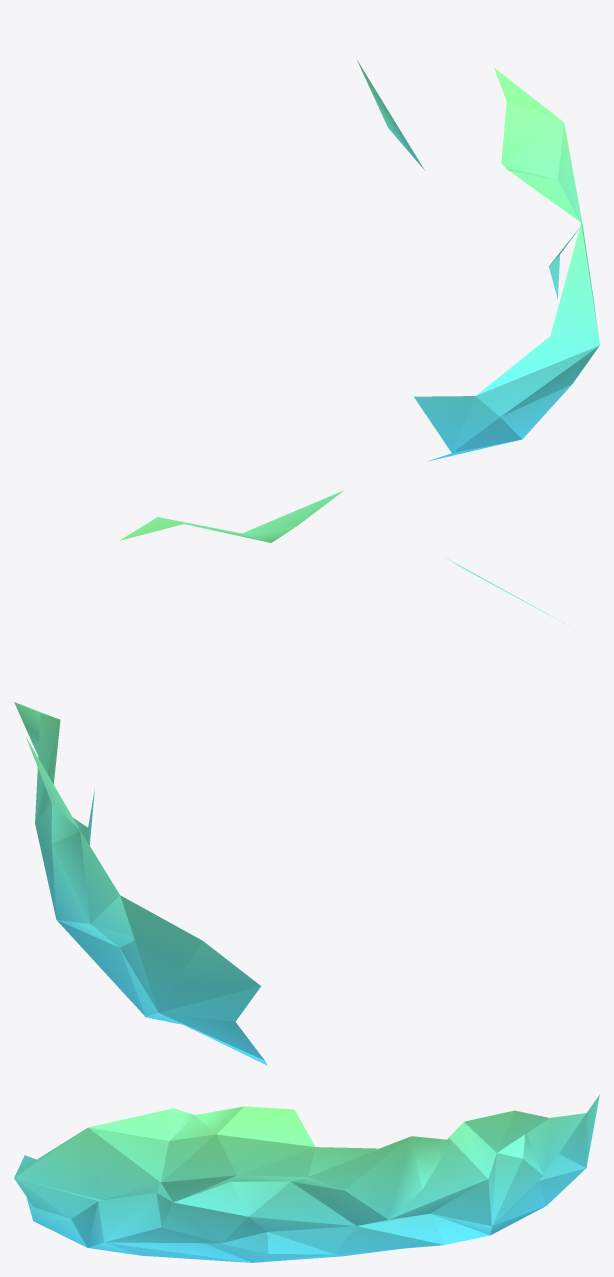
File: Brain B.gltf
The picture shows the model from 3 angles, top to bottom: view 1: azimuth 30°, elevation 25°; view 2: azimuth 150°, elevation 25°; view 3: azimuth 270°, elevation 25°; orthographic projection. The views are drawn at different scales.
Visible parts, largest first — view 1: BrainSolid Light B; view 2: BrainSolid Light B; view 3: BrainSolid Light B.
Boxes of the visible parts, left/top/right/bottom form: BrainSolid Light B: left=357, top=60, right=599, bottom=461; BrainSolid Light B: left=14, top=490, right=575, bottom=1065; BrainSolid Light B: left=14, top=1094, right=599, bottom=1262.
Size of the model in its own units: 2.3 by 1.77 by 4.67.
Materials: 1 (1 with a texture image).
